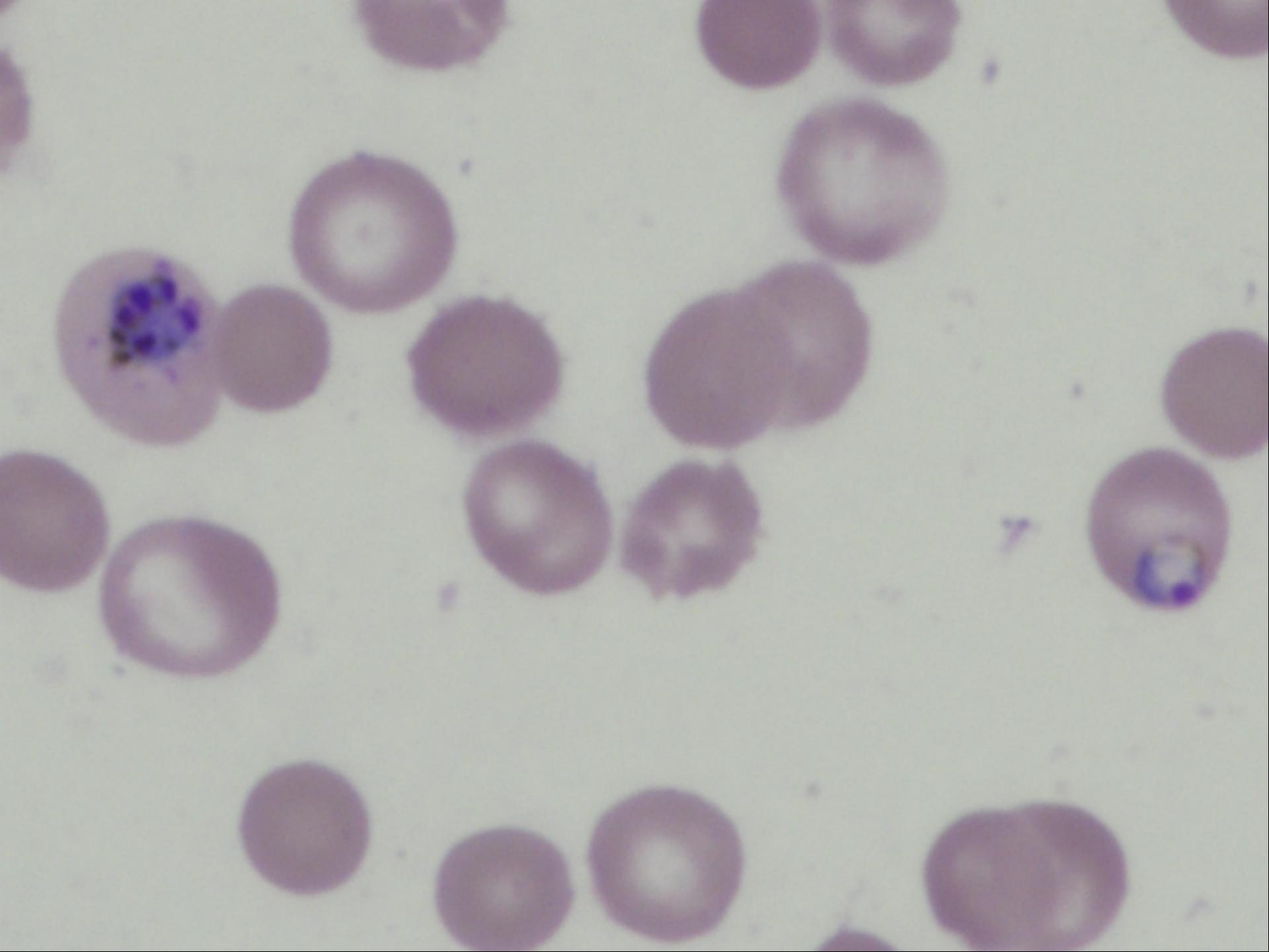Infected: (57, 245, 224, 440), (1087, 450, 1227, 609)
Uninfected: (644, 264, 865, 449), (926, 803, 1123, 948), (100, 518, 275, 674), (780, 100, 944, 261), (295, 159, 460, 313), (588, 789, 738, 939), (465, 444, 611, 591), (409, 299, 562, 435), (621, 462, 759, 597), (239, 762, 369, 894), (435, 829, 570, 949), (212, 285, 328, 411), (0, 454, 105, 589), (1163, 329, 1267, 455), (827, 2, 960, 82), (700, 1, 818, 87), (360, 1, 505, 69)
